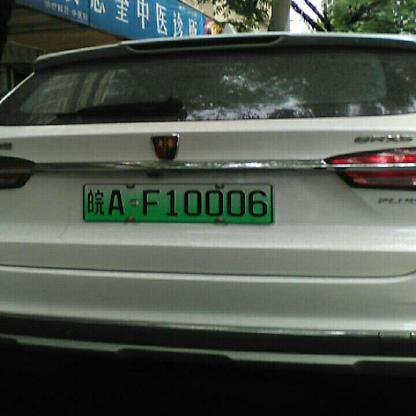lp: (83, 185, 271, 221)
